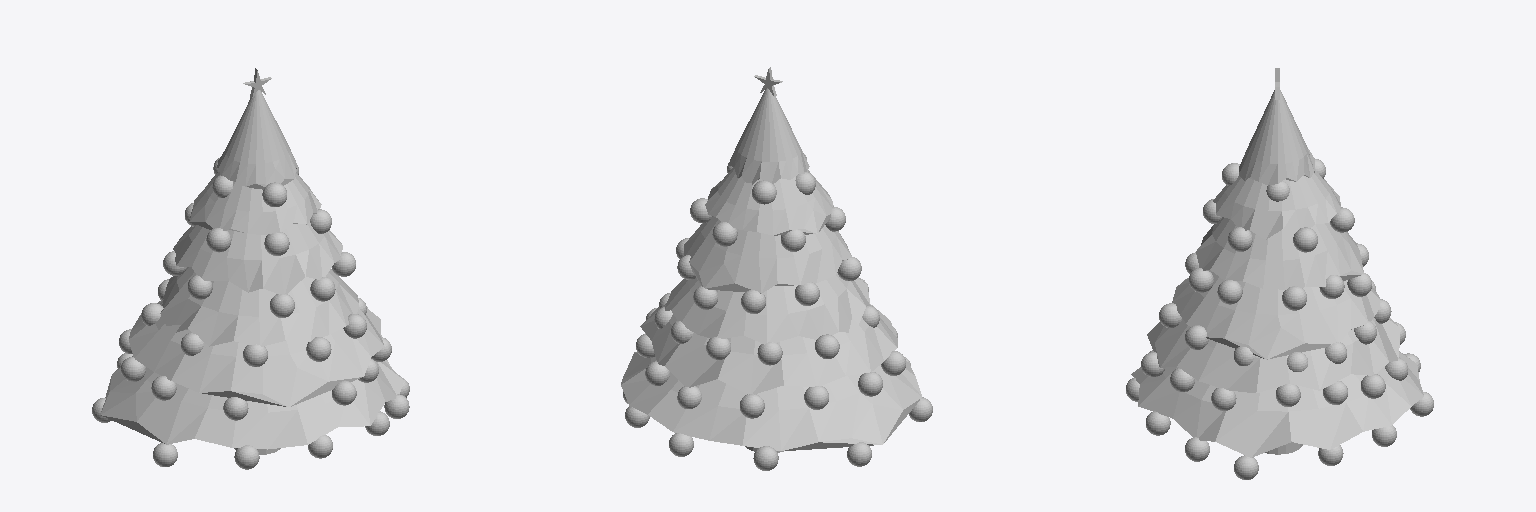
The model's file is christmasTree.obj.
The picture shows the model from 3 angles: view 1: azimuth 30°, elevation 25°; view 2: azimuth 150°, elevation 25°; view 3: azimuth 270°, elevation 25°; orthographic projection.
Visible parts, largest first — view 1: Cone006, Cone005, Cone004, Cone003, Cone002, Cone001; view 2: Cone006, Cone005, Cone004, Cone003, Cone002, Cone001; view 3: Cone006, Cone004, Cone005, Cone003, Cone002, Cone001.
Part boxes in pixels (left/top/right/bottom): Cone006: left=101, top=356, right=404, bottom=449; Cone005: left=129, top=299, right=384, bottom=406; Cone004: left=160, top=267, right=358, bottom=346; Cone003: left=173, top=221, right=342, bottom=294; Cone002: left=189, top=172, right=321, bottom=234; Cone001: left=217, top=90, right=297, bottom=189; Cone006: left=621, top=352, right=921, bottom=450; Cone005: left=640, top=304, right=897, bottom=394; Cone004: left=665, top=273, right=870, bottom=344; Cone003: left=684, top=216, right=851, bottom=293; Cone002: left=705, top=167, right=833, bottom=235; Cone001: left=728, top=88, right=809, bottom=184; Cone006: left=1131, top=351, right=1423, bottom=457; Cone004: left=1172, top=272, right=1380, bottom=359; Cone005: left=1147, top=318, right=1399, bottom=392; Cone003: left=1196, top=217, right=1363, bottom=289; Cone002: left=1213, top=170, right=1340, bottom=239; Cone001: left=1239, top=90, right=1314, bottom=184.
Size of the model in its own units: 24.71 by 32.78 by 24.41.